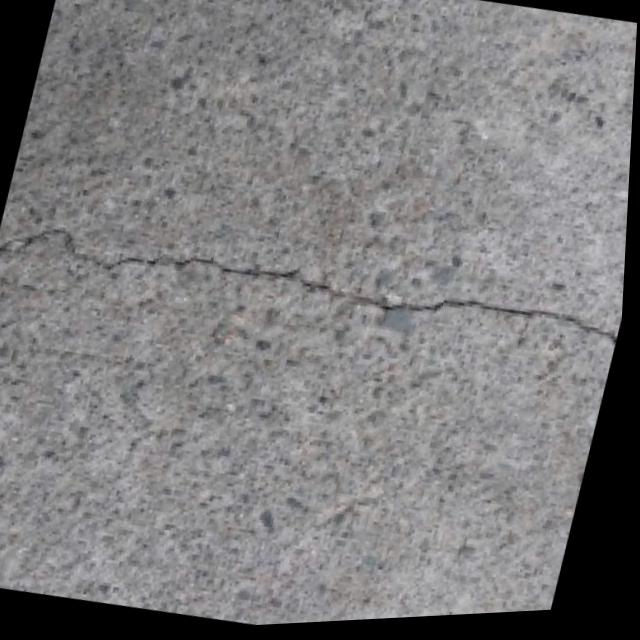Crack: (0, 154, 633, 432)
